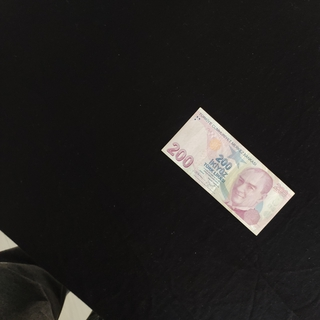200TLFront: (160, 106, 295, 236)
